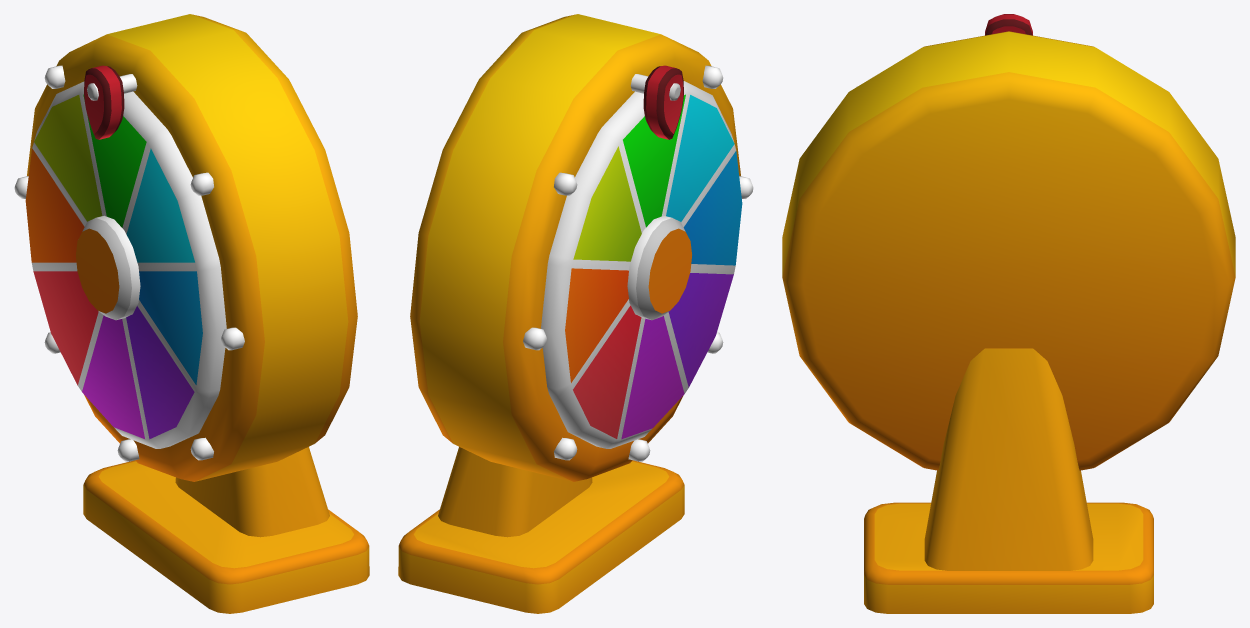
Rendered from Fortune_Wheel_V1_00.fbx.
3 renders of one model, left to right at view 1: azimuth 30°, elevation 25°; view 2: azimuth 150°, elevation 25°; view 3: azimuth 270°, elevation 25°, orthographic.
Parts seen in each view (by area): view 1: Fortune_Wheel_V1_00, Fortune_Wheel_V1_01; view 2: Fortune_Wheel_V1_00, Fortune_Wheel_V1_01; view 3: Fortune_Wheel_V1_00.
Part boxes in pixels (<box>): Fortune_Wheel_V1_00: <box>14,14,369,613</box>; Fortune_Wheel_V1_01: <box>25,81,226,448</box>; Fortune_Wheel_V1_00: <box>398,14,753,613</box>; Fortune_Wheel_V1_01: <box>541,81,742,448</box>; Fortune_Wheel_V1_00: <box>782,14,1235,613</box>.
Size of the model in its own units: 17.51 by 39.97 by 32.36.
